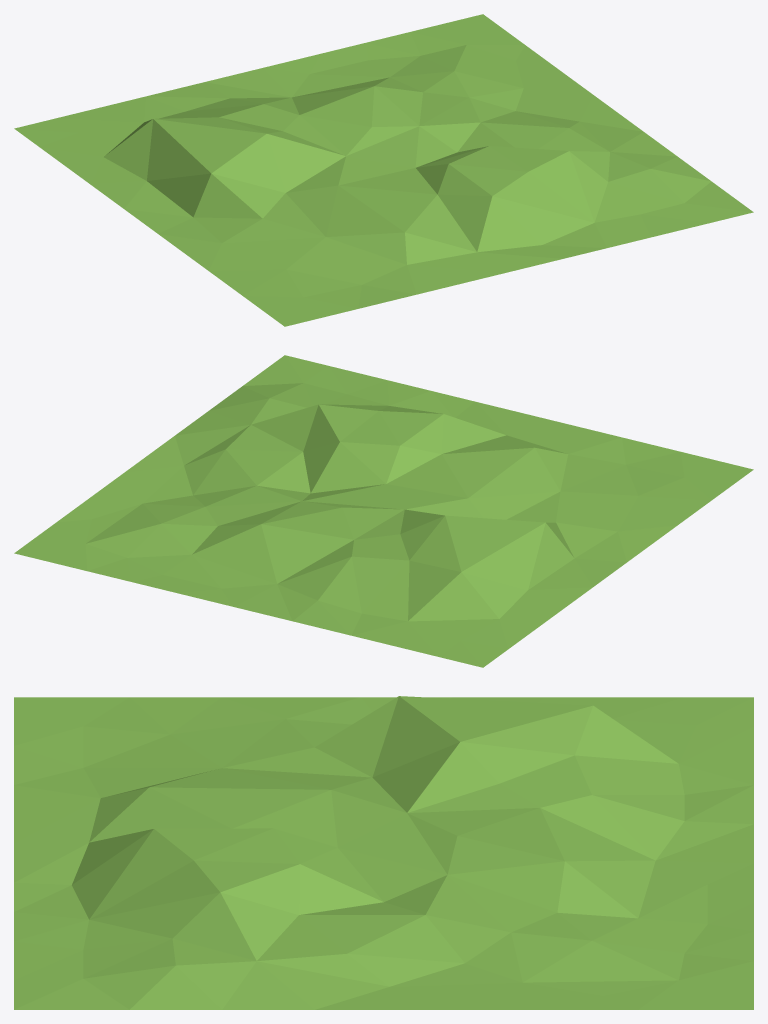
Rendered from MT_Terrain_S_a_17.fbx.
The picture shows the model from 3 angles, top to bottom: view 1: azimuth 30°, elevation 25°; view 2: azimuth 150°, elevation 25°; view 3: azimuth 270°, elevation 25°; orthographic projection. The views are drawn at different scales.
Parts seen in each view (by area): view 1: MT_Terrain_S_a_17; view 2: MT_Terrain_S_a_17; view 3: MT_Terrain_S_a_17.
Boxes of the visible parts, x1,y1,x2,y2 form: MT_Terrain_S_a_17: [14, 14, 753, 326]; MT_Terrain_S_a_17: [14, 355, 753, 667]; MT_Terrain_S_a_17: [14, 696, 753, 1009].
Bounding box in the file's own units: 2500 × 203 × 2500.
